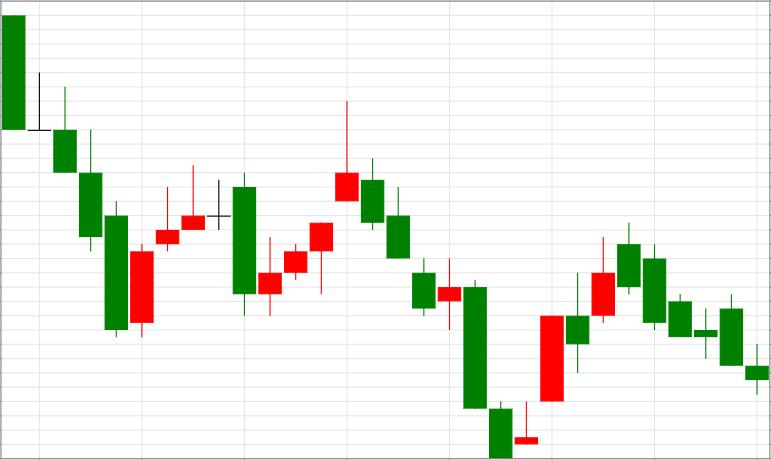shooting_star_fall: (258, 102, 359, 316)
